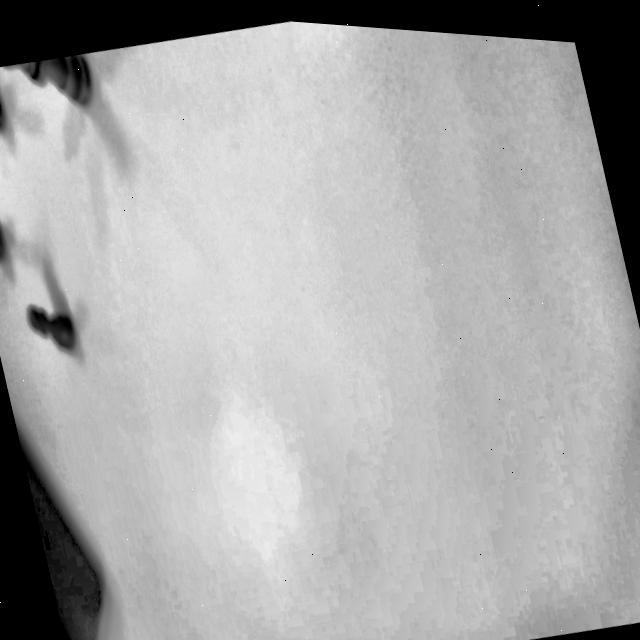black-pawn: (15, 285, 91, 373), (0, 66, 16, 158)
